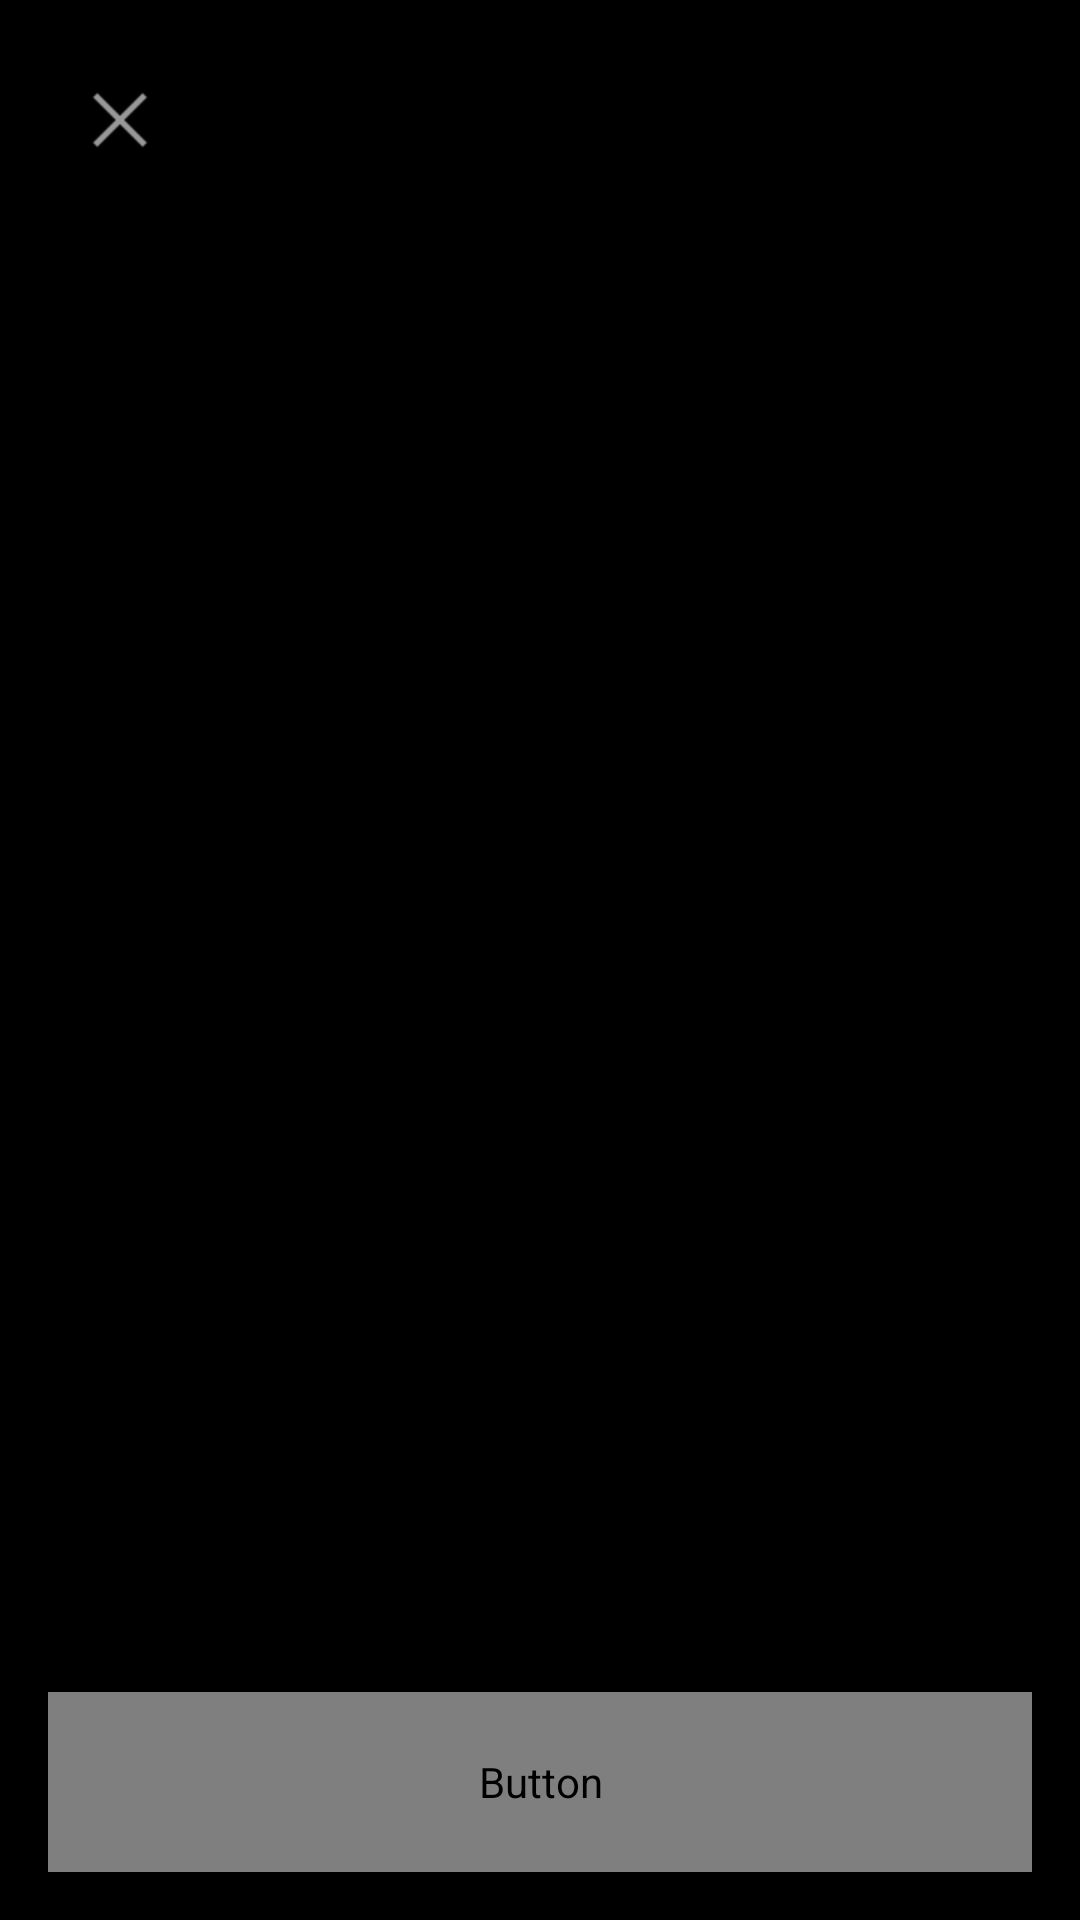

Point at icon controls on the screen. Image size 1080×1920, points as [x,y].
close clear cancel: [120,120]
